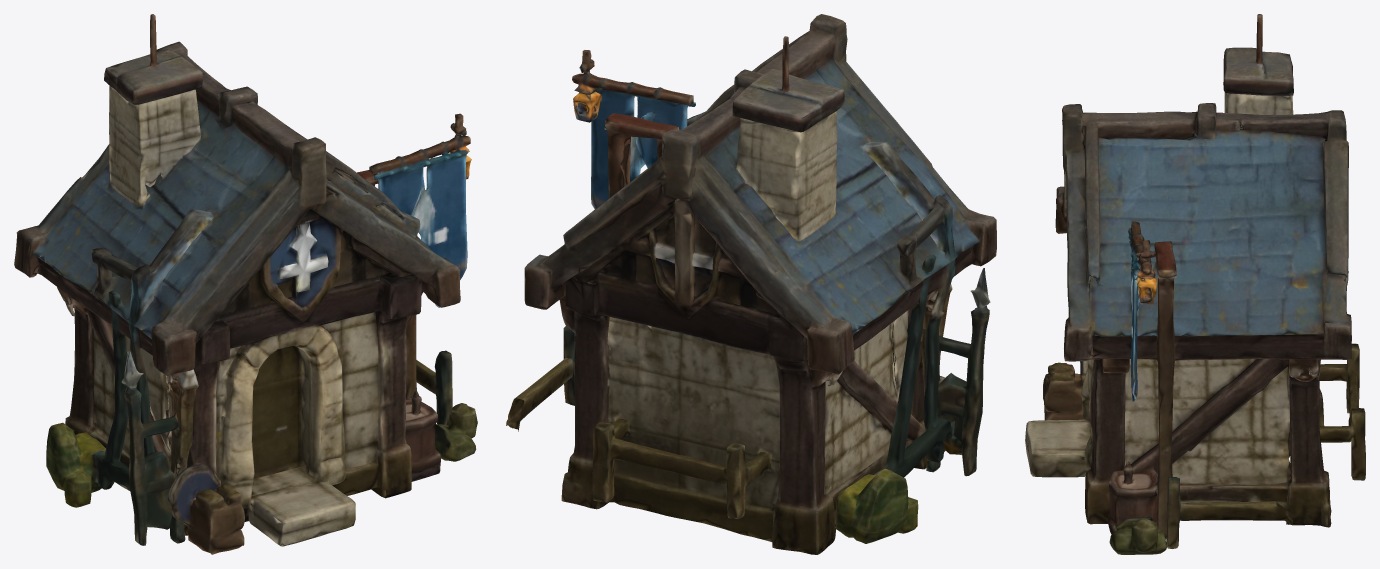
Rendered from barracks.glb.
3 renders of one model, left to right at view 1: azimuth 30°, elevation 25°; view 2: azimuth 150°, elevation 25°; view 3: azimuth 270°, elevation 25°, orthographic. The views are drawn at different scales.
Parts seen in each view (by area): view 1: barracks_s8_fit; view 2: barracks_s8_fit; view 3: barracks_s8_fit.
Part boxes in pixels (x1,y1,x2,y2): barracks_s8_fit: [14, 14, 477, 554]; barracks_s8_fit: [506, 14, 996, 554]; barracks_s8_fit: [1025, 14, 1365, 554].
Bounding box in the file's own units: 3.75 × 4.36 × 3.09.
Materials: 1 (1 with a texture image).
